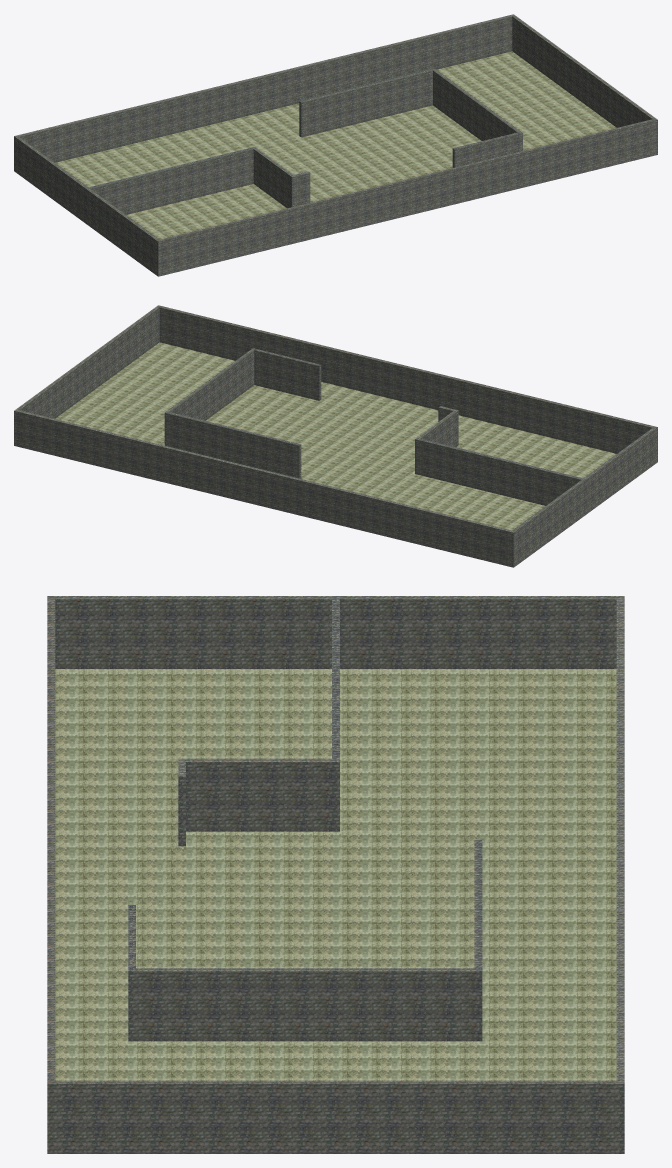
File: room.obj
3 views of the same model, one above another, from view 1: azimuth 30°, elevation 25°; view 2: azimuth 150°, elevation 25°; view 3: azimuth 270°, elevation 25° (orthographic). The views are drawn at different scales.
Visible parts, largest first — view 1: Solido1; view 2: Solido1; view 3: Solido1.
Part boxes in pixels (x1=…): Solido1: x1=14, y1=14, x2=657, y2=276; Solido1: x1=14, y1=305, x2=657, y2=567; Solido1: x1=47, y1=596, x2=624, y2=1153.
Size of the model in its own units: 30000 by 2010 by 15000.
3 materials, 2 textured.
